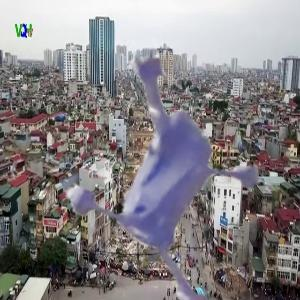drone: (2, 7, 291, 296)
